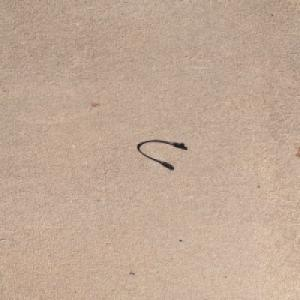Wire: (136, 139, 185, 168)
